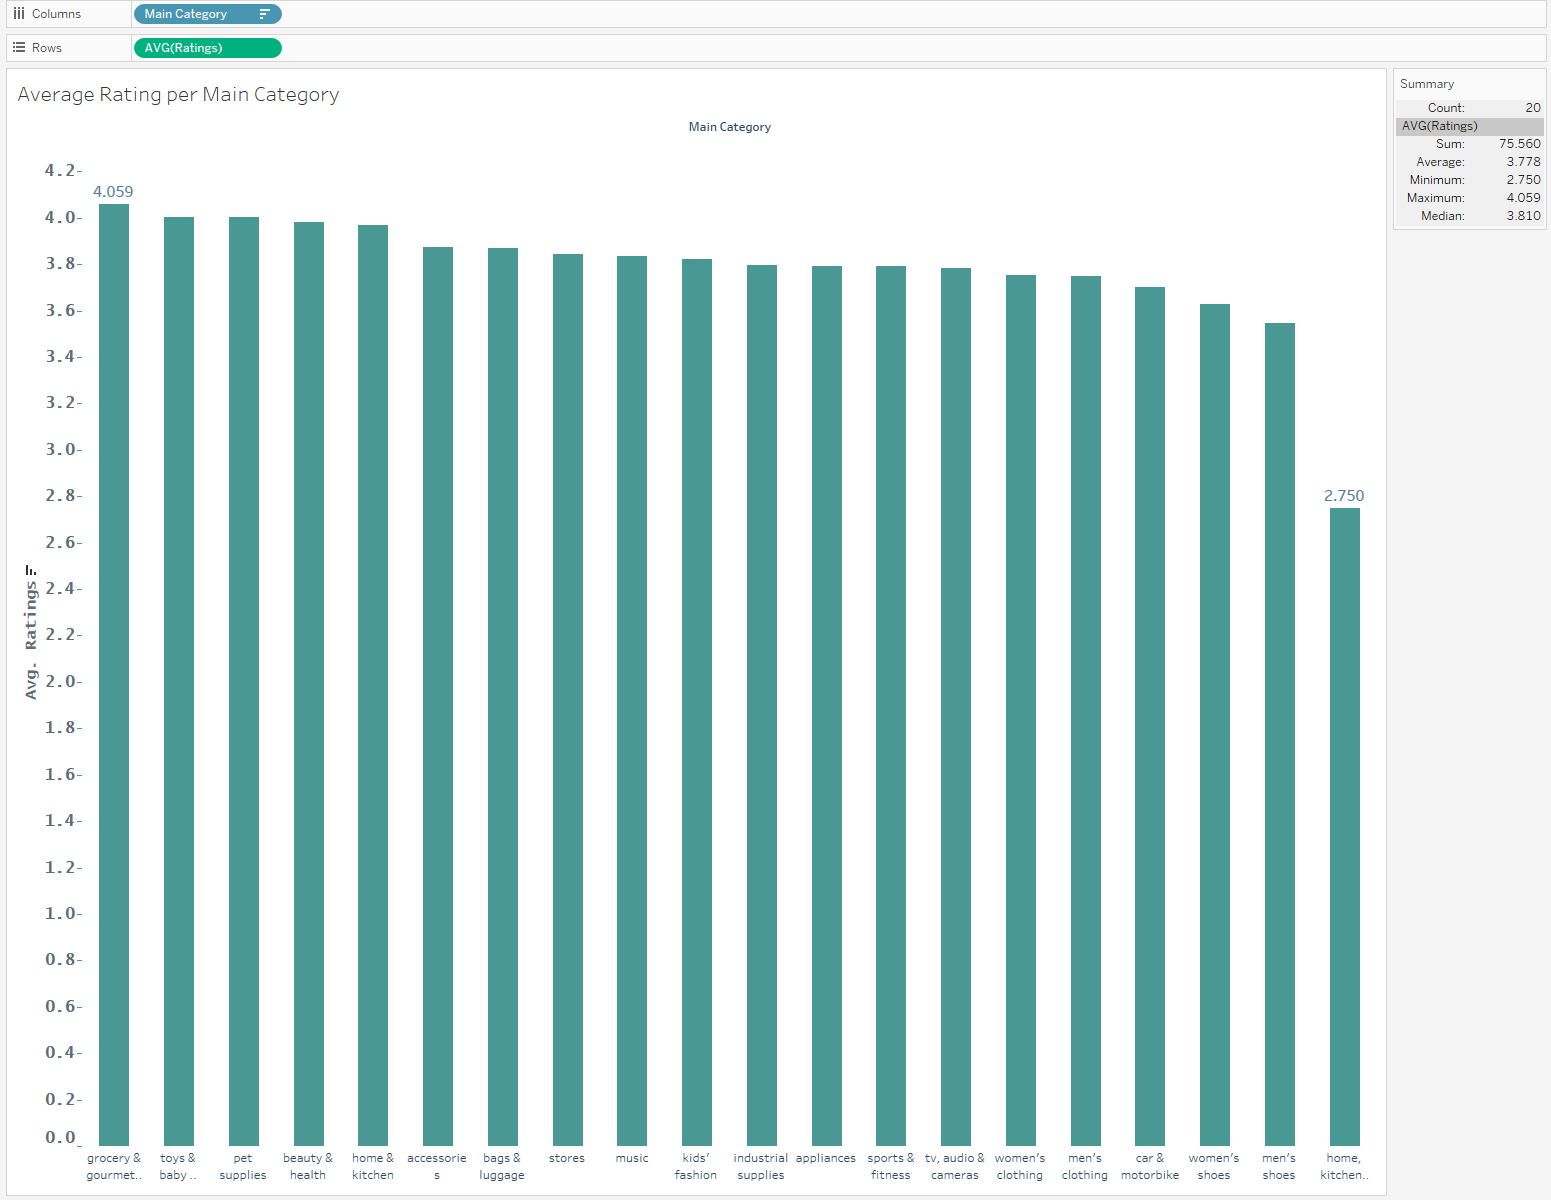

Layout of this report page (visuals, bound fields, positions):
{"tool":"tableau","page":{"name":"Dashboard 1","canvas":[650,860],"ordinal":0},"visuals":[{"type":"worksheet","box":[8,8.6,634,842.8]}]}

Visuals, with their boxes in screenshot pixels (x1, y1, x2, y2):
worksheet: pyautogui.locateOnScreen(124, 28, 965, 1146)
